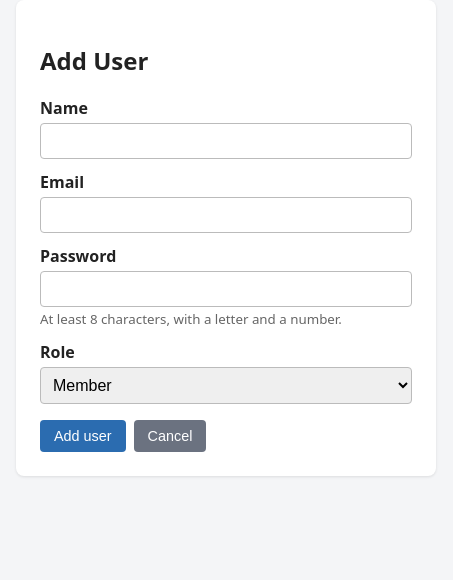
UserFormPage › shows validation errors from the server
Click the button "Add user": (83, 436) [40,420,126,452]
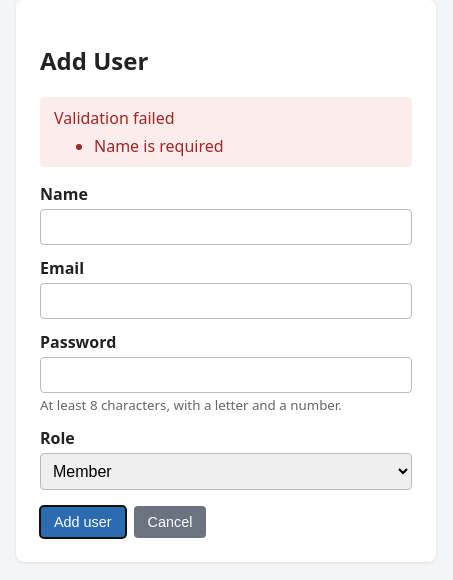
expect the message shows "Name is required": met, box [94,135,224,157]
